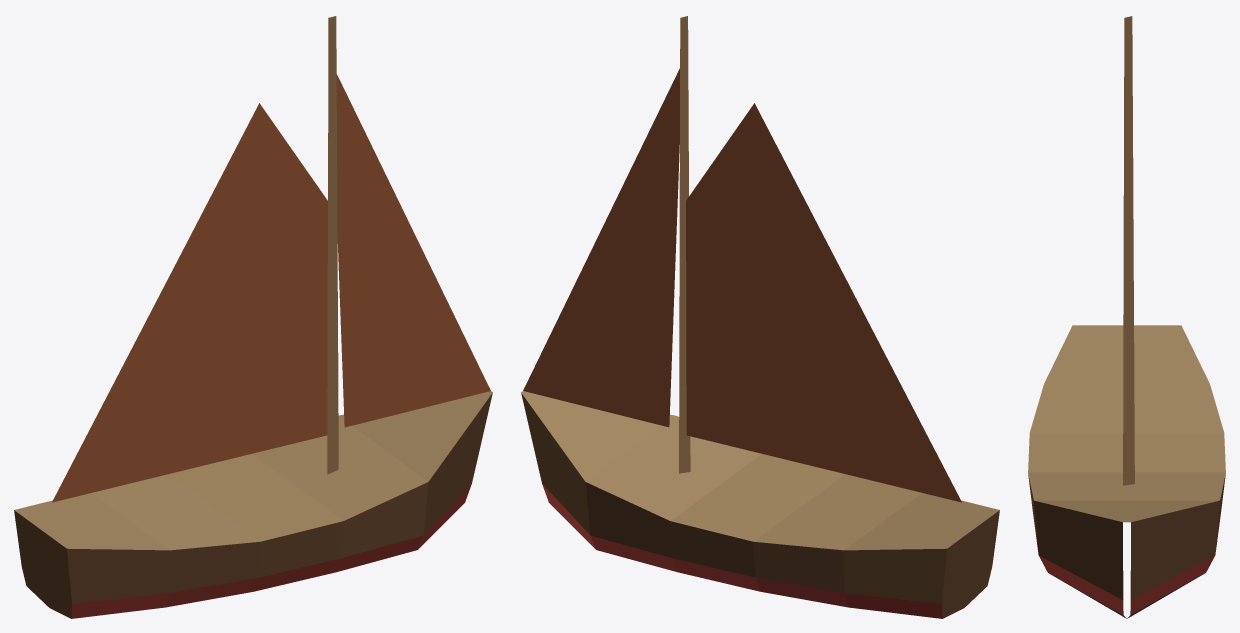
Rendered from hull_eur_botter_medium_lod.glb.
3 views of the same model, side by side, from view 1: azimuth 30°, elevation 25°; view 2: azimuth 150°, elevation 25°; view 3: azimuth 270°, elevation 25° (orthographic). The views are drawn at different scales.
Parts seen in each view (by area): view 1: lod; view 2: lod; view 3: lod.
Part boxes in pixels (x1,y1,x2,y2): lod: [14, 16, 492, 618]; lod: [521, 16, 999, 618]; lod: [1028, 16, 1225, 618].
Bounding box in the file's own units: 13 × 14.85 × 4.81.
